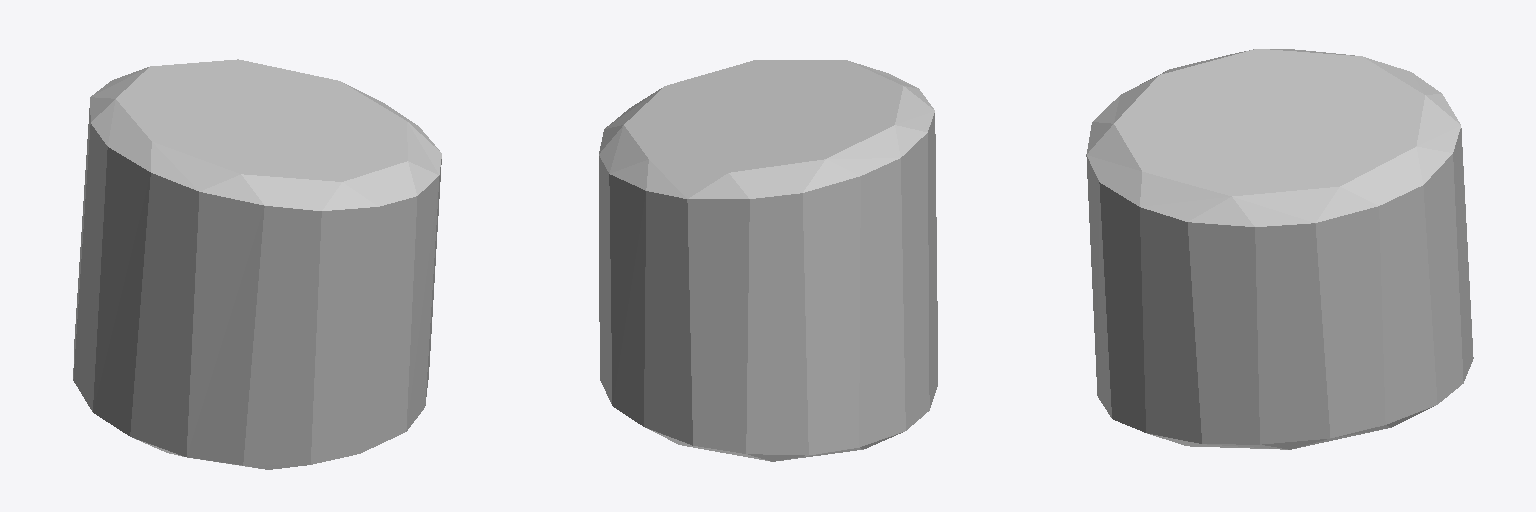
File: Wizard.obj
3 views of the same model, side by side, from view 1: azimuth 30°, elevation 25°; view 2: azimuth 150°, elevation 25°; view 3: azimuth 270°, elevation 25° (orthographic).
Parts seen in each view (by area): view 1: Stump_Cylinder.003; view 2: Stump_Cylinder.003; view 3: Stump_Cylinder.003.
Part boxes in pixels (left/top/right/bottom): Stump_Cylinder.003: left=73, top=59, right=441, bottom=469; Stump_Cylinder.003: left=599, top=60, right=937, bottom=461; Stump_Cylinder.003: left=1086, top=49, right=1473, bottom=449.
Bounding box in the file's own units: 3.19 × 3.06 × 3.55.